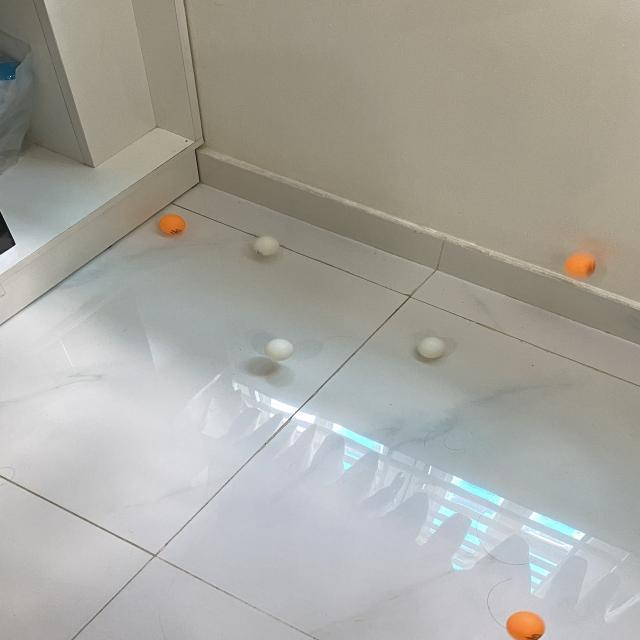ping-pong-ball: (506, 611, 546, 640), (564, 252, 598, 280), (158, 212, 188, 236), (418, 336, 447, 360), (264, 339, 294, 362), (252, 236, 281, 258)
